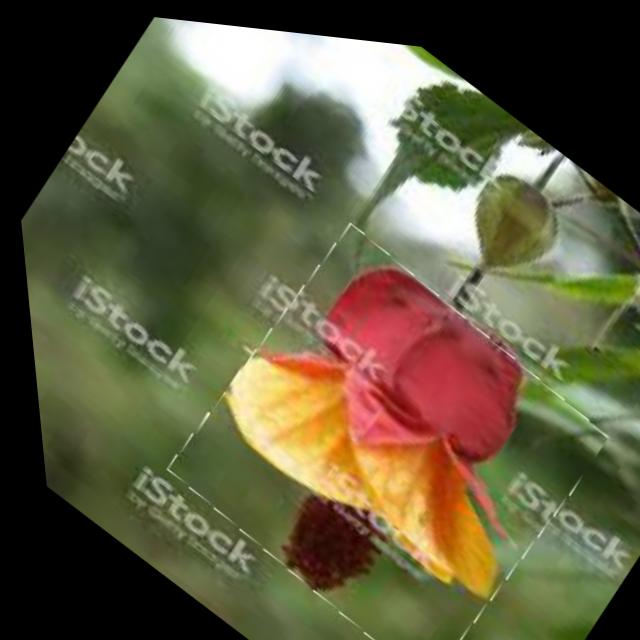Flower: (133, 191, 625, 640)
